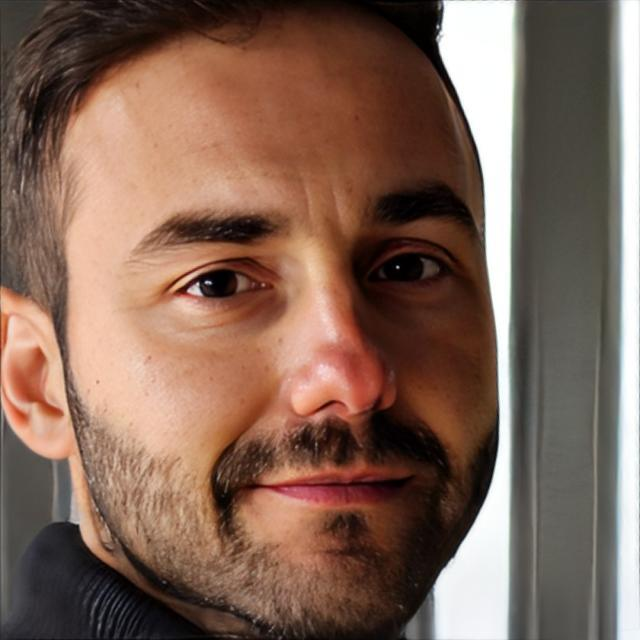content: (68, 6, 500, 640)
